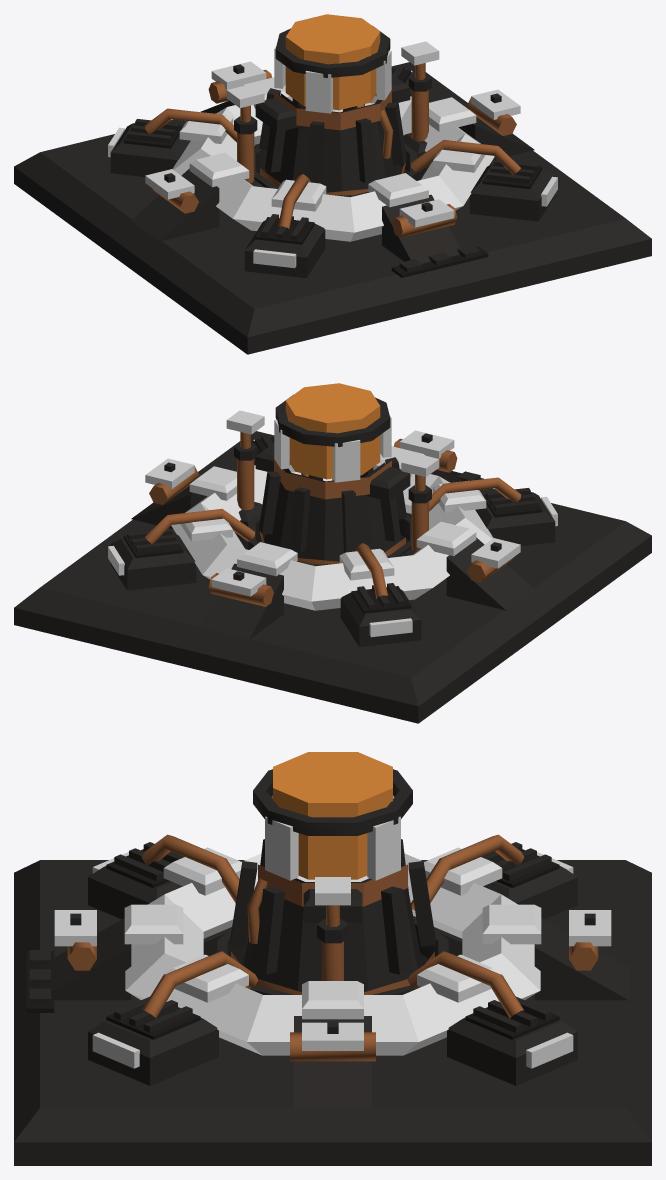
The model's file is str_t1_mex.663c41b6.glb.
3 renders of one model, top to bottom at view 1: azimuth 30°, elevation 25°; view 2: azimuth 150°, elevation 25°; view 3: azimuth 270°, elevation 25°, orthographic. The views are drawn at different scales.
Visible parts, largest first — view 1: lod0; view 2: lod0; view 3: lod0.
Part boxes in pixels (bbox=[...]): lod0: bbox=[14, 14, 651, 354]; lod0: bbox=[14, 383, 651, 723]; lod0: bbox=[14, 752, 651, 1165].
Size of what is drawn, in the model's own units: 1.96 by 0.86 by 1.96.
